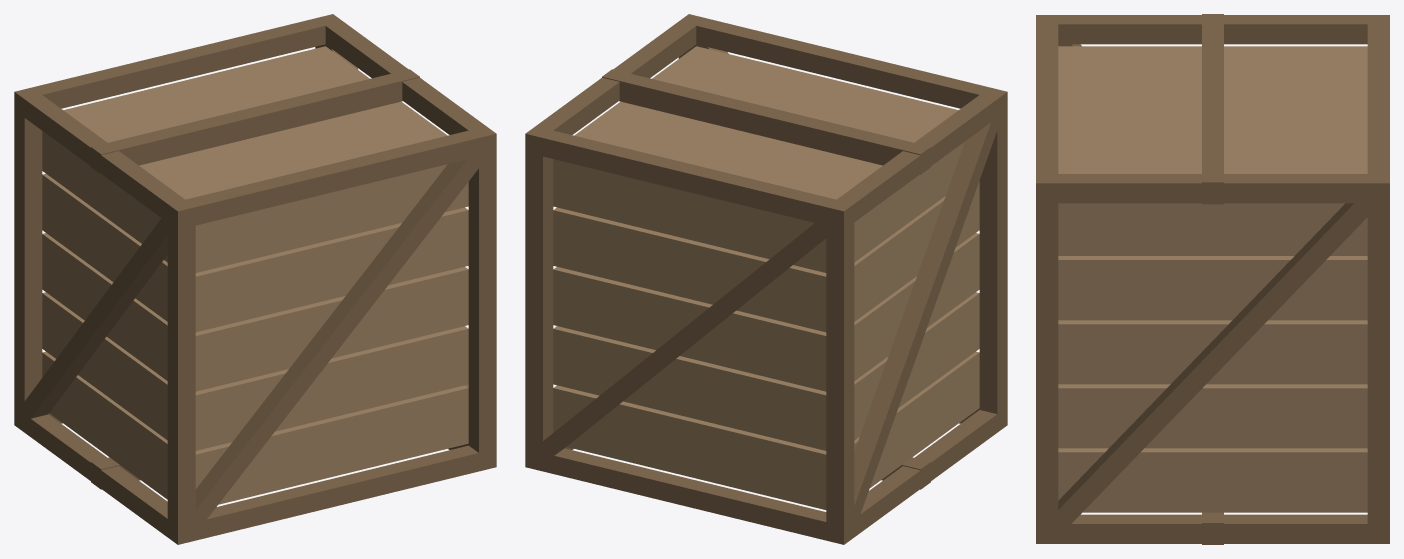
File: SM_Crate_Large.fbx
3 renders of one model, left to right at view 1: azimuth 30°, elevation 25°; view 2: azimuth 150°, elevation 25°; view 3: azimuth 270°, elevation 25°, orthographic. The views are drawn at different scales.
Visible parts, largest first — view 1: SM_Crate_Large; view 2: SM_Crate_Large; view 3: SM_Crate_Large.
Part boxes in pixels (x1,y1,x2,y2): SM_Crate_Large: (14, 14, 496, 544); SM_Crate_Large: (525, 14, 1007, 544); SM_Crate_Large: (1036, 14, 1389, 544).
Size of the model in its own units: 180 by 181 by 160.
